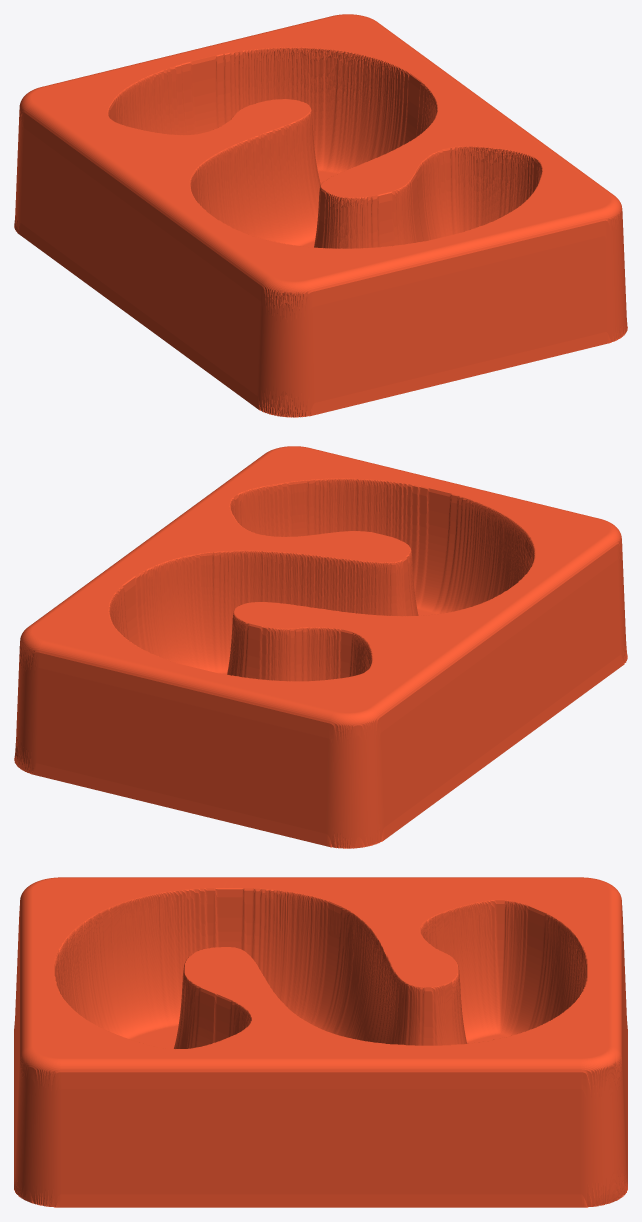
File: mold.glb
3 views of the same model, one above another, from view 1: azimuth 30°, elevation 25°; view 2: azimuth 150°, elevation 25°; view 3: azimuth 270°, elevation 25° (orthographic). The views are drawn at different scales.
Visible parts, largest first — view 1: geometry_0; view 2: geometry_0; view 3: geometry_0.
Boxes of the visible parts, bbox=[...] form: geometry_0: bbox=[14, 14, 627, 417]; geometry_0: bbox=[14, 446, 627, 848]; geometry_0: bbox=[14, 877, 627, 1207].
Bounding box in the file's own units: 0.0888 × 0.0299 × 0.1178.
